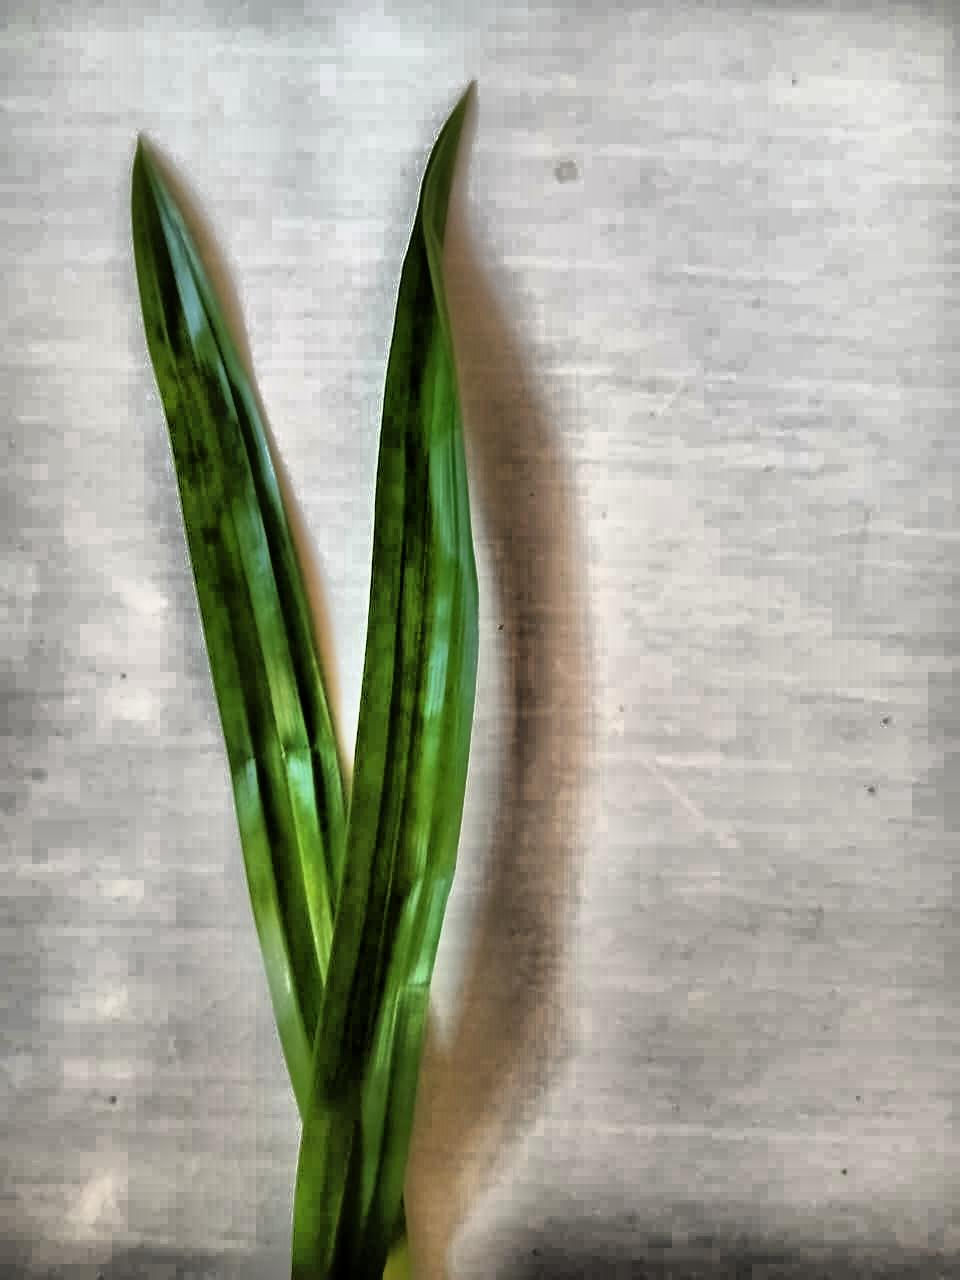daun pandan: (132, 92, 477, 1279)
